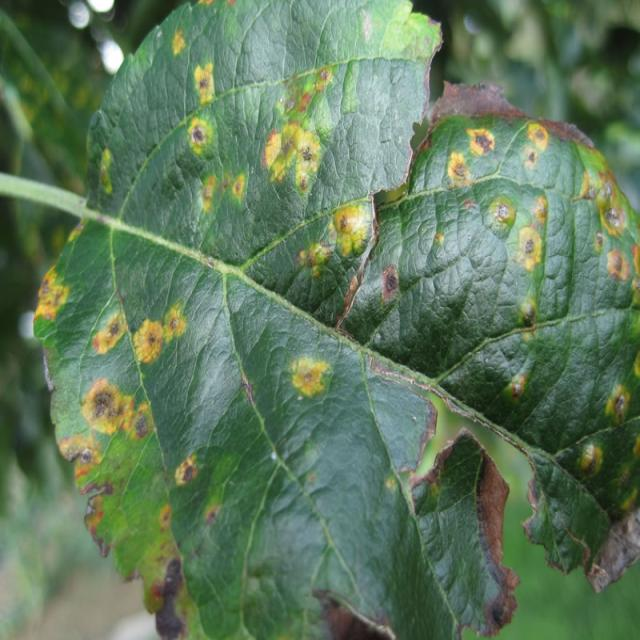Gymnosporangium_Rusts: (31, 1, 638, 637)
